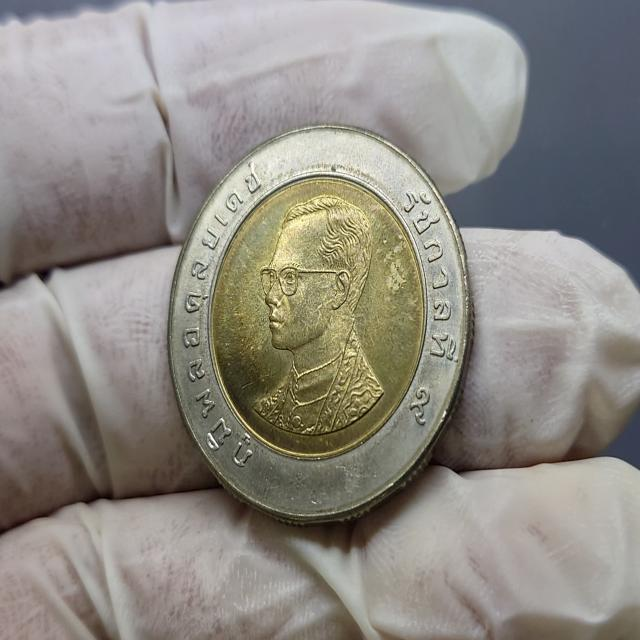10 Bath: (164, 121, 479, 531)
